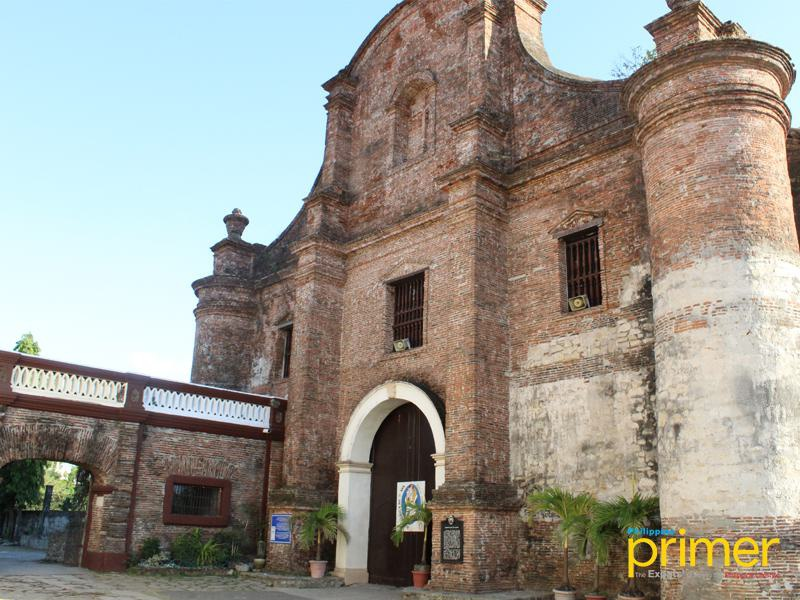santa_maria_church_santa_maria_ilocos_sur: (186, 1, 800, 600)
unfinished_paint: (506, 264, 800, 528)
